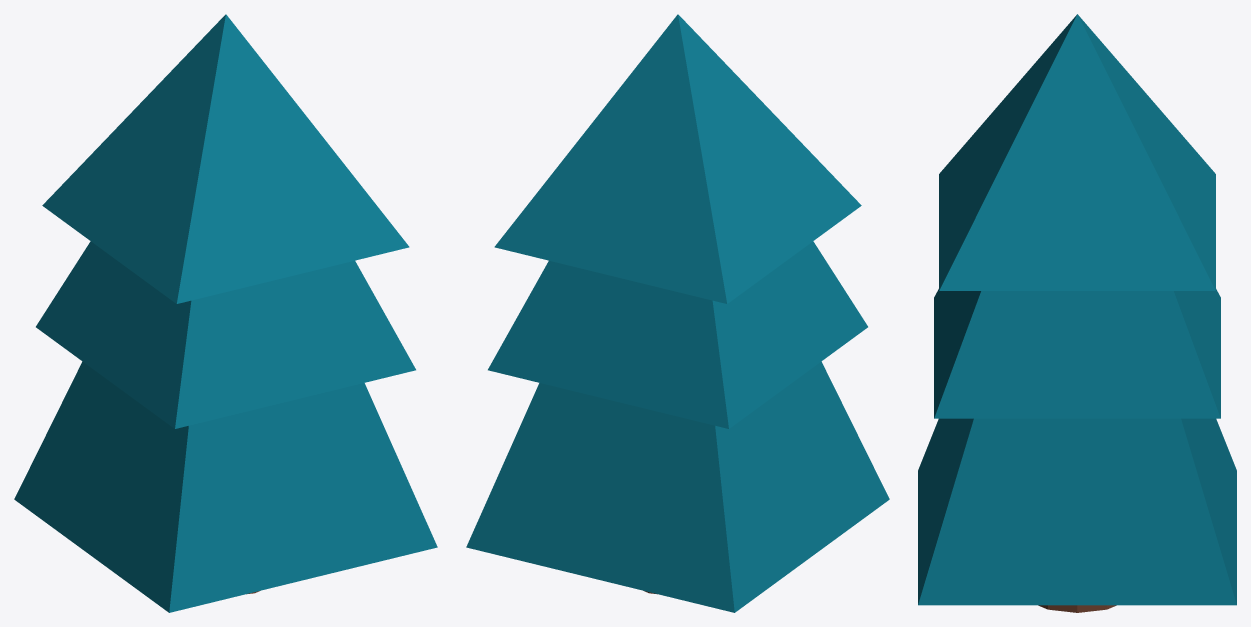
File: Tree_18_summer_blue_vc.fbx
3 views of the same model, side by side, from view 1: azimuth 30°, elevation 25°; view 2: azimuth 150°, elevation 25°; view 3: azimuth 270°, elevation 25° (orthographic). The views are drawn at different scales.
Parts seen in each view (by area): view 1: Tree_18_summer_blue_vc; view 2: Tree_18_summer_blue_vc; view 3: Tree_18_summer_blue_vc.
Part boxes in pixels (<box>): Tree_18_summer_blue_vc: <box>14,14,437,612</box>; Tree_18_summer_blue_vc: <box>466,14,889,612</box>; Tree_18_summer_blue_vc: <box>918,14,1236,612</box>.
Bounding box in the file's own units: 95.96 × 191 × 95.96.
